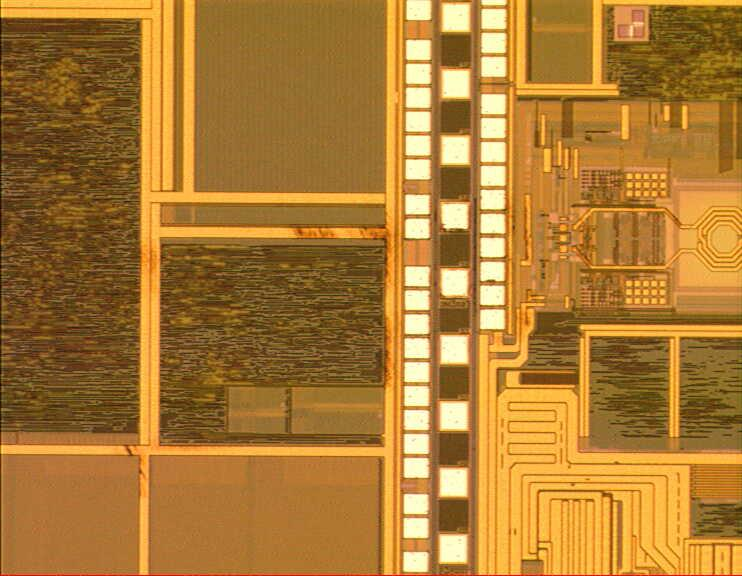SCRATCH: (115, 210, 412, 500)
